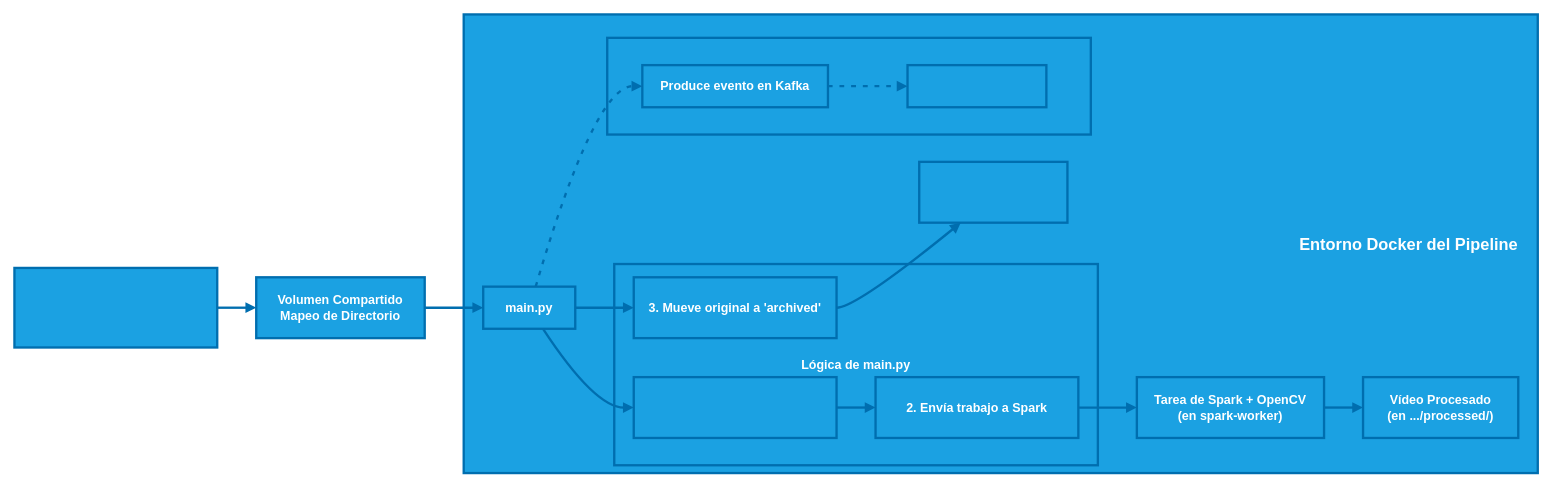
Image size: 1552x487. Some labels were removed from this diagram. Each missing label, with the centre of its shape:
"1. Lee .mp4 vía volumen" goes at pixel 734 407.
"Carpeta de Grabaciones de Jibri (Host Debian)" goes at pixel 115 307.
"Consume evento" goes at pixel 976 86.
"Vídeo Archivado (en .../archived/)" goes at pixel 993 191.
